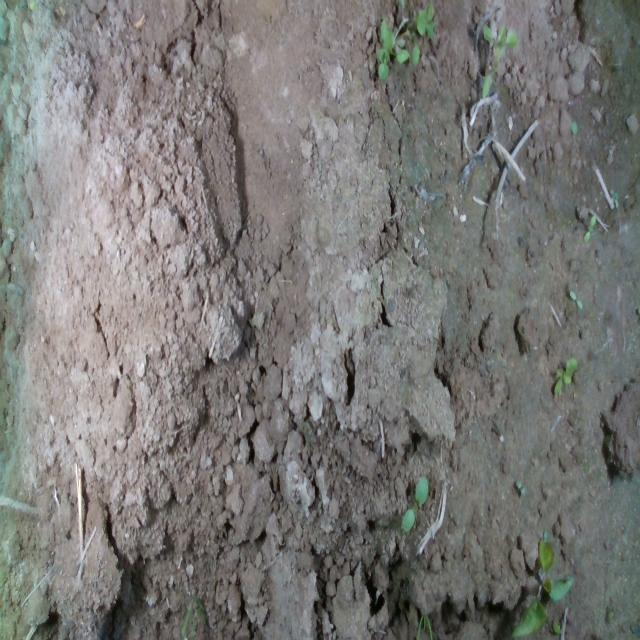weed: (400, 475, 428, 533), (552, 356, 579, 396), (582, 210, 596, 242), (569, 288, 583, 310), (608, 186, 620, 202)
